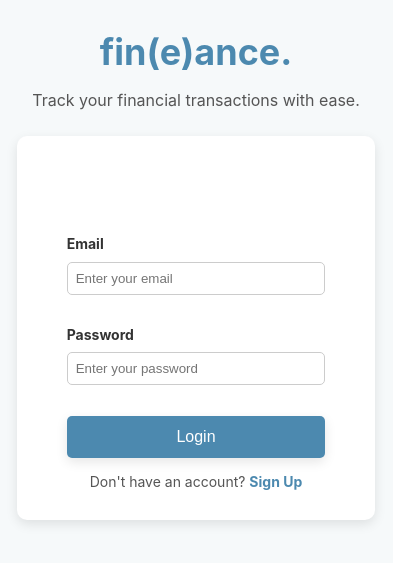
Test case: LoginPage › displays a generic error message on unexpected errors
The width and height of the screenshot is (393, 563).
Step 1. Type "testUser@example.com" into the field labelled "Email" → coordinates (196, 278), box [67,262,325,294]
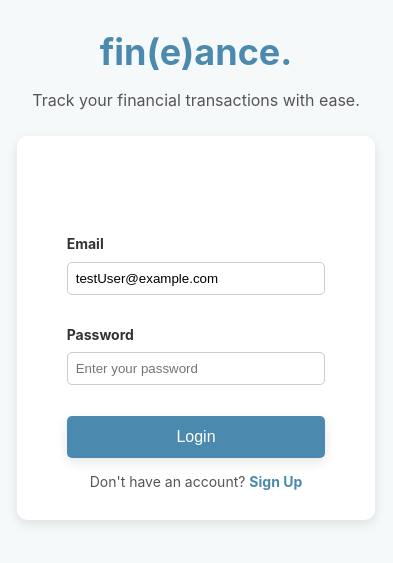
Step 2. Type "password123" into the password field labelled "Password" → coordinates (196, 369), box [67,352,325,385]
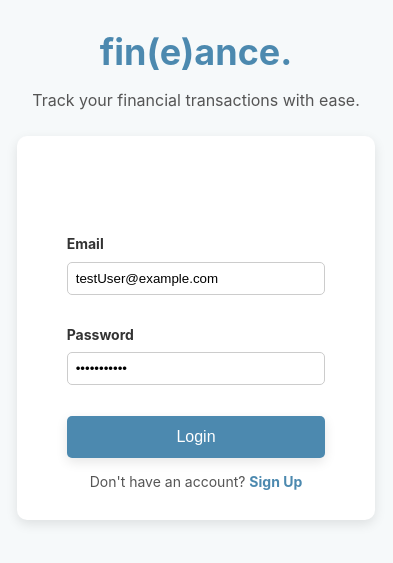
Step 3. Click the button "Login" → coordinates (196, 437), box [67,416,325,458]
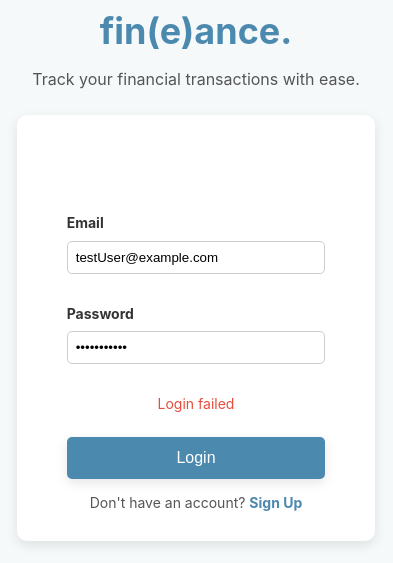
Result: the text "Login failed" is shown at [158,395,234,412]
